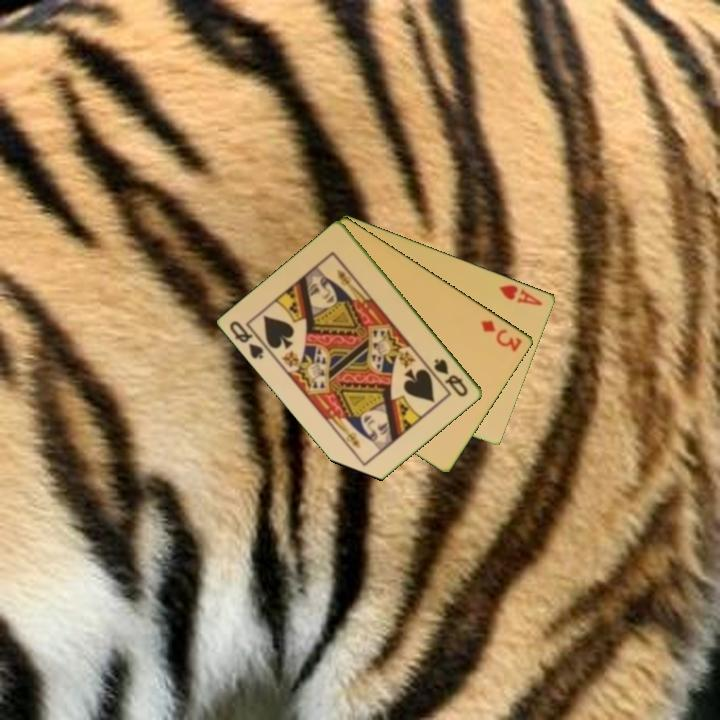3d: (477, 317, 525, 355)
Ah: (495, 281, 545, 308)
Qs: (226, 317, 273, 362), (430, 355, 471, 400)
